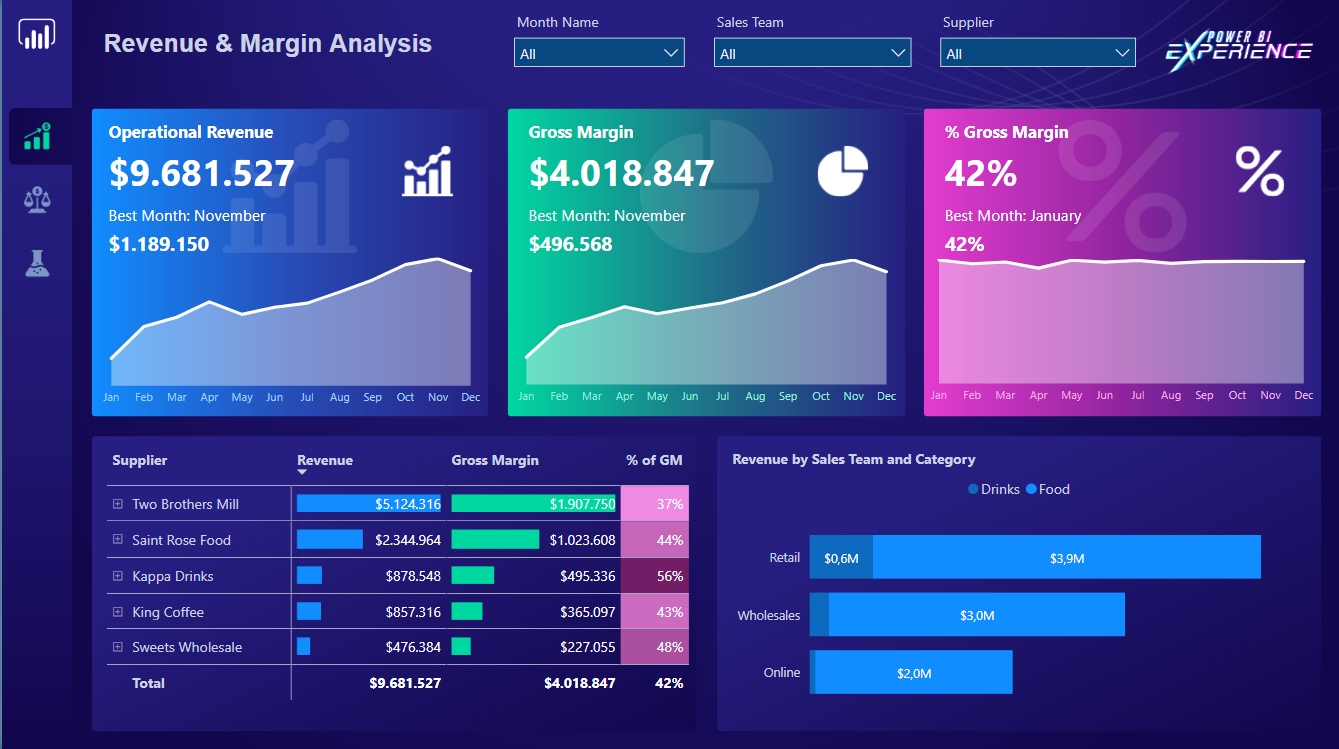

This screenshot's page, from the dashboard's own definition file:
{"tool":"powerbi","page":{"name":"Financial Dashboard","canvas":[1280,720],"ordinal":0},"visuals":[{"type":"multiRowCard","title":"Operational Revenue","fields":{"Values":["Base Measure.Revenue"]},"box":[87.5,109.4,363.8,93],"z":0},{"type":"barChart","fields":{"Category":["Revenue.Team"],"Y":["Base Measure.Total Sales Amount"],"Series":["Product.Category"]},"box":[685.4,420.8,594.8,299.2],"z":1000},{"type":"pivotTable","fields":{"Rows":["Product.Supplier","Product.Group"],"Values":["Base Measure.Revenue","Base Measure.Gross Margin","Base Measure.% Gross Margin"]},"box":[87,420.8,577,282.5],"z":2000},{"type":"areaChart","fields":{"Y":["Base Measure.Revenue"],"Category":["Date.Month  Name"]},"box":[106,225,364,165],"z":3000},{"type":"multiRowCard","title":"Operational Revenue","fields":{"Values":["Base Measure.Revenue","Base Measure.Title Best Month"]},"box":[87.5,231.1,363.8,54.7],"z":4000},{"type":"textbox","box":[67.9,0,425.6,83.4],"z":5000},{"type":"slicer","fields":{"Values":["Date.Month  Name"]},"box":[493.5,0,259.9,75.1],"z":6000},{"type":"slicer","fields":{"Values":["Revenue.Team"]},"box":[753.4,0,265.8,83.4],"z":7000},{"type":"slicer","fields":{"Values":["Product.Supplier"]},"box":[1019.2,0,261.1,83.4],"z":8000},{"type":"multiRowCard","title":"Gross Margin","fields":{"Values":["Base Measure.Gross Margin"]},"box":[493.5,109.7,363.6,93],"z":9000},{"type":"multiRowCard","title":"% Gross Margin","fields":{"Values":["Base Measure.% Gross Margin"]},"box":[886.9,109.7,363.6,93],"z":10000},{"type":"multiRowCard","title":"Operational Revenue","fields":{"Values":["Base Measure.Gross Margin","Base Measure.Title Best Month"]},"box":[493.5,202.6,363.6,54.8],"z":11000},{"type":"multiRowCard","title":"Operational Revenue","fields":{"Values":["Base Measure.% Gross Margin","Base Measure.Title Best Month"]},"box":[887.2,188.7,363,69.3],"z":12000},{"type":"areaChart","fields":{"Y":["Base Measure.Gross Margin"],"Category":["Date.Month  Name"]},"box":[493.5,231.3,364.8,165.7],"z":13000},{"type":"areaChart","fields":{"Category":["Date.Month  Name"],"Y":["Base Measure.% Gross Margin"]},"box":[887.5,231.1,365.1,166.8],"z":14000},{"type":"image","box":[0,109.7,67.9,46.5],"z":15000},{"type":"image","box":[0,171.7,67.9,53.6],"z":16000},{"type":"image","box":[0,225.3,67.9,60.8],"z":17000}]}

Visuals, with their boxes on the page's 1280x720 design canvas (x1, y1, x2, y2). These are canvas units, not pixel positions in the 1339x749 screenshot, which may show the page scaled, cropped or inside an application window:
"Operational Revenue" multiRowCard: 88 109 451 202
barChart - Revenue.Team x Base Measure.Total Sales Amount: 685 421 1280 720
pivotTable - Product.Supplier x Product.Group: 87 421 664 703
areaChart - Base Measure.Revenue x Date.Month  Name: 106 225 470 390
"Operational Revenue" multiRowCard: 88 231 451 286
textbox: 68 0 494 83
slicer - Date.Month  Name: 494 0 753 75
slicer - Revenue.Team: 753 0 1019 83
slicer - Product.Supplier: 1019 0 1280 83
"Gross Margin" multiRowCard: 494 110 857 203
"% Gross Margin" multiRowCard: 887 110 1250 203
"Operational Revenue" multiRowCard: 494 203 857 257
"Operational Revenue" multiRowCard: 887 189 1250 258
areaChart - Base Measure.Gross Margin x Date.Month  Name: 494 231 858 397
areaChart - Date.Month  Name x Base Measure.% Gross Margin: 888 231 1253 398
image: 0 110 68 156
image: 0 172 68 225
image: 0 225 68 286
